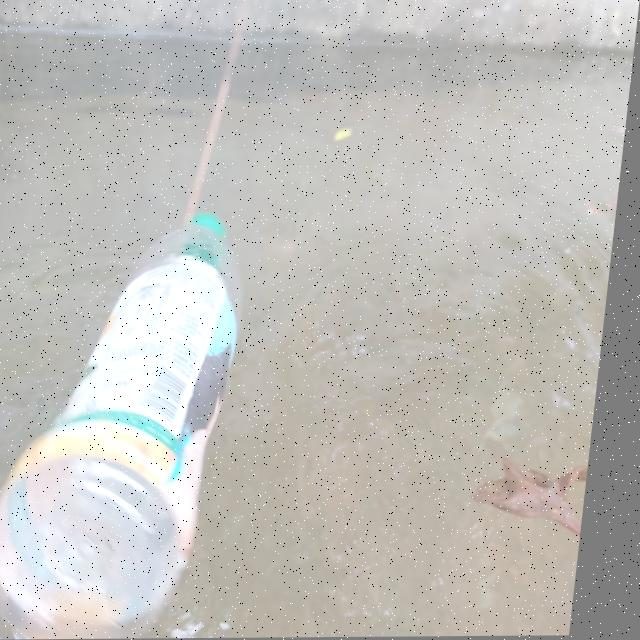leaf: (473, 433, 602, 556)
waterbottle: (0, 186, 285, 640)
